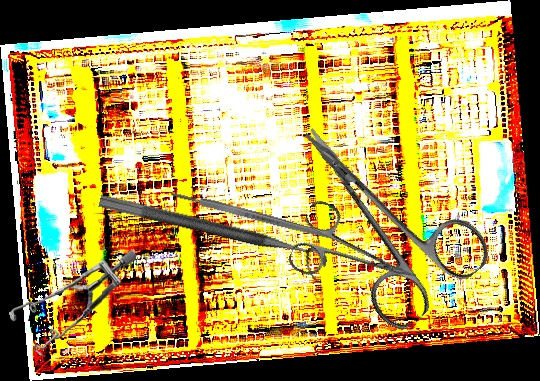Fixation Ring: (93, 193, 330, 283)
Iris Scissors: (261, 87, 498, 337), (285, 197, 429, 315)
Scalpel Handle: (169, 188, 334, 242)
Speculum: (6, 249, 141, 358)
